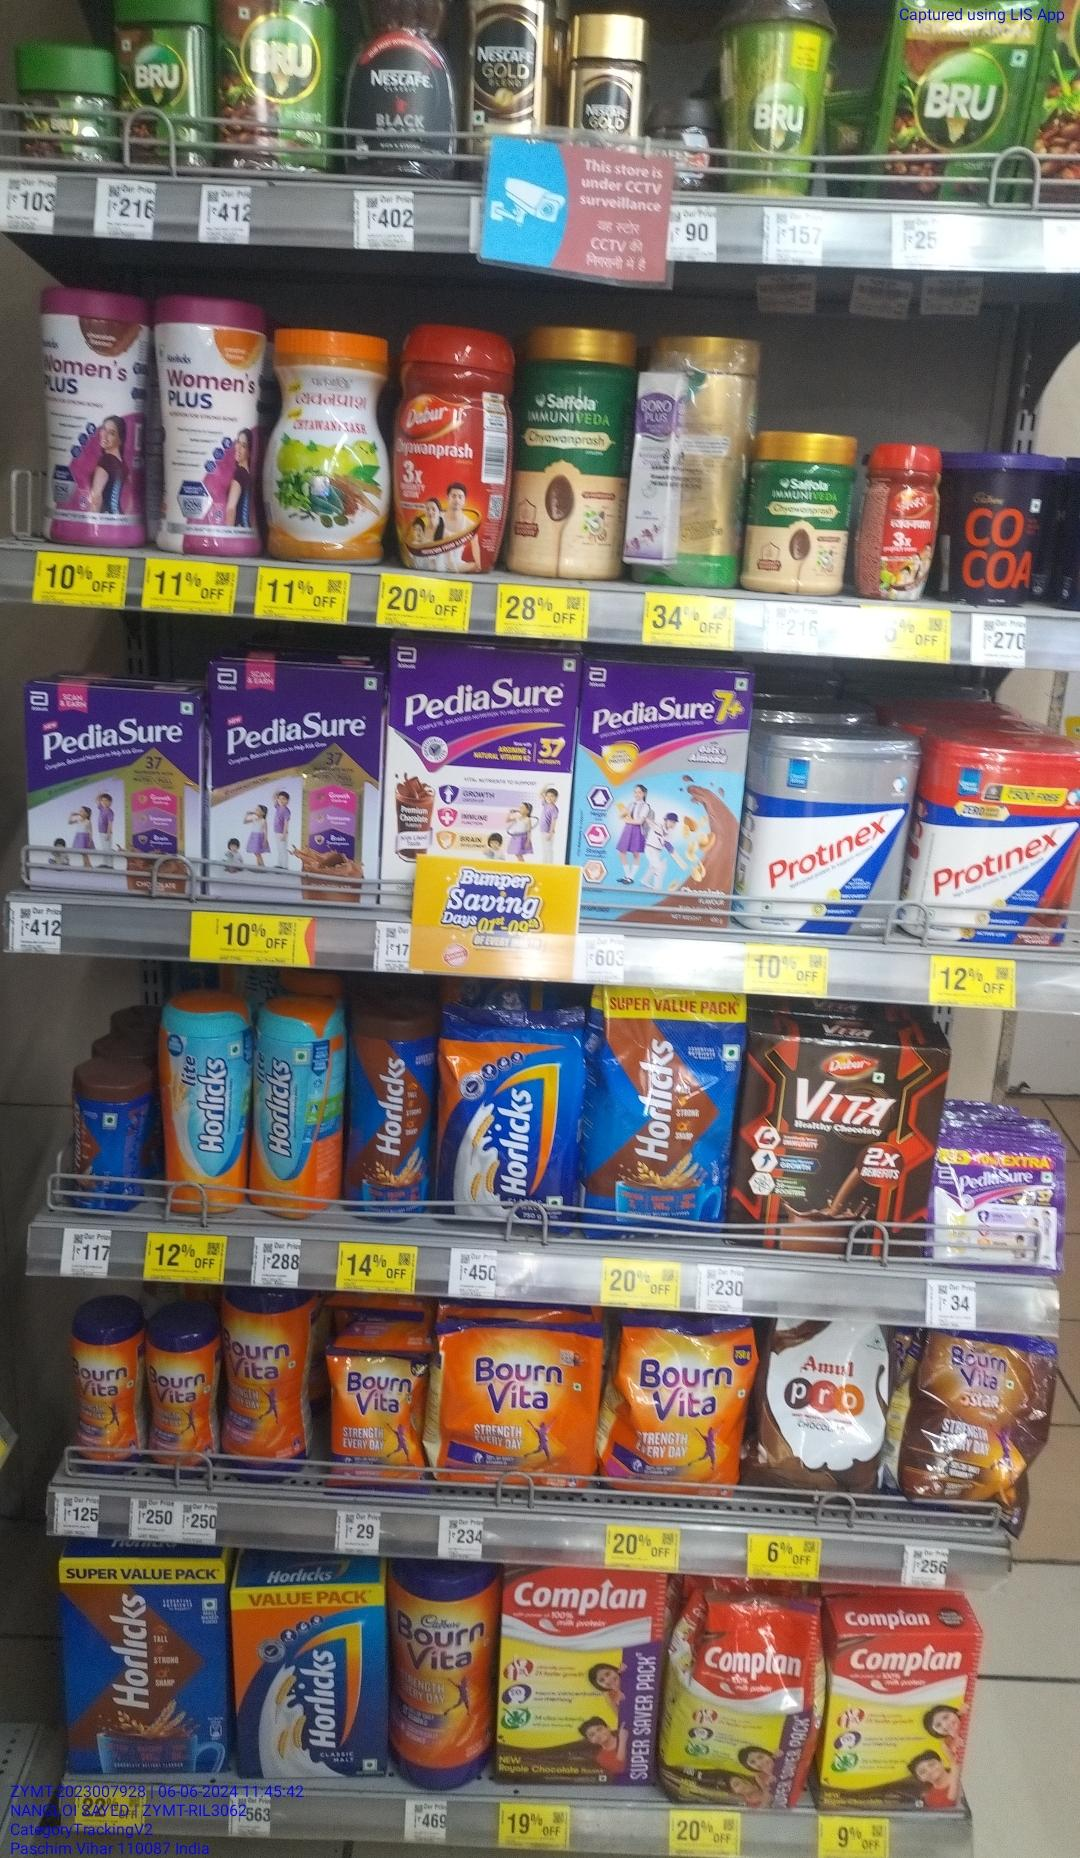BOURN_VITA_200_G_JAR: (68, 1310, 138, 1481), (147, 1324, 217, 1483)
BOURN_VITA_75_G_POUCH: (323, 1346, 431, 1494)
BOURN_VITA_FIVE_STAR_MAGIC_500_G_POUCH: (909, 1328, 1041, 1524)
HORLICKS_LITE_REGULAR_MALT_500_GM_JAR: (255, 995, 338, 1218), (159, 1004, 244, 1218)
HORLICK_CHOCOLATE_1_KG_PACK: (59, 1558, 231, 1782)
HORLICK_CHOCOLATE_200_G_JAR: (68, 1069, 140, 1205)
HORLICK_CHOCOLATE_500_G_JAR: (350, 1011, 442, 1232)
PEDIASURE_7_PLUS_CHOCOLATE_400_G_PACK: (579, 660, 742, 939)
PEDIASURE_CHOCOLATE_500_G_PACK: (211, 660, 381, 900)
PROTINEX_CHOCOLATE_400_G_JAR: (921, 735, 1080, 958)
PROTINEX_ORIGINAL_400_G_JAR: (752, 729, 906, 948)
